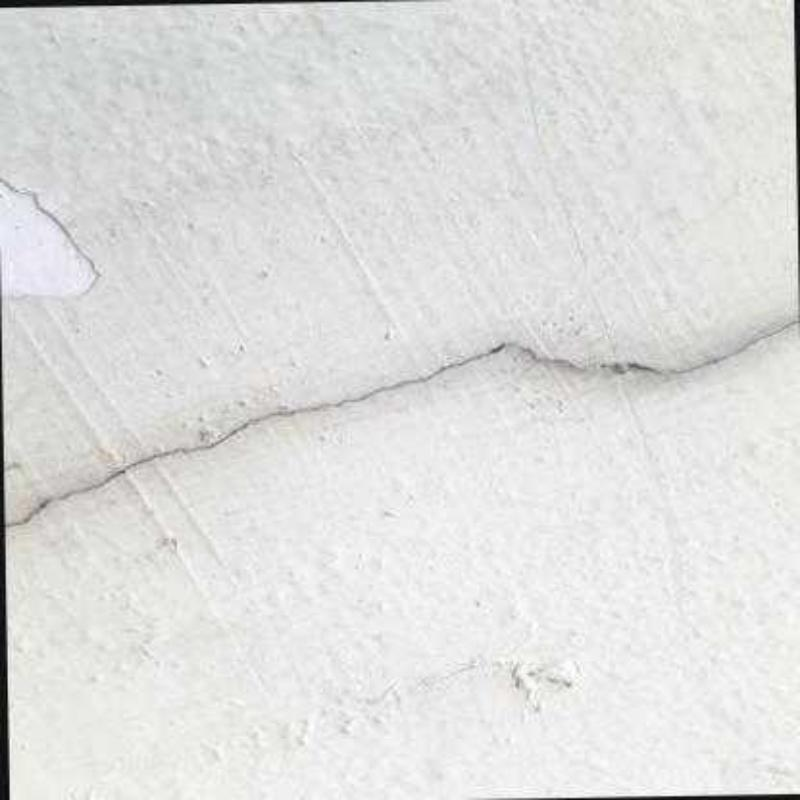pothole: (2, 321, 798, 529)
